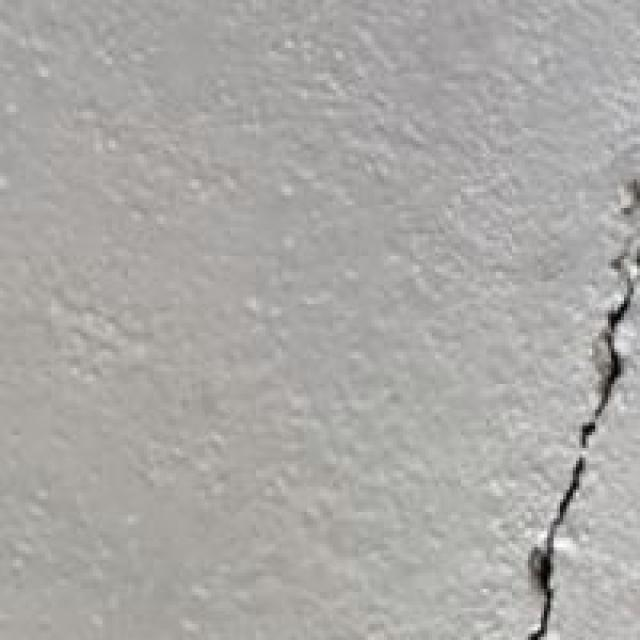Crack: (492, 172, 640, 640)
